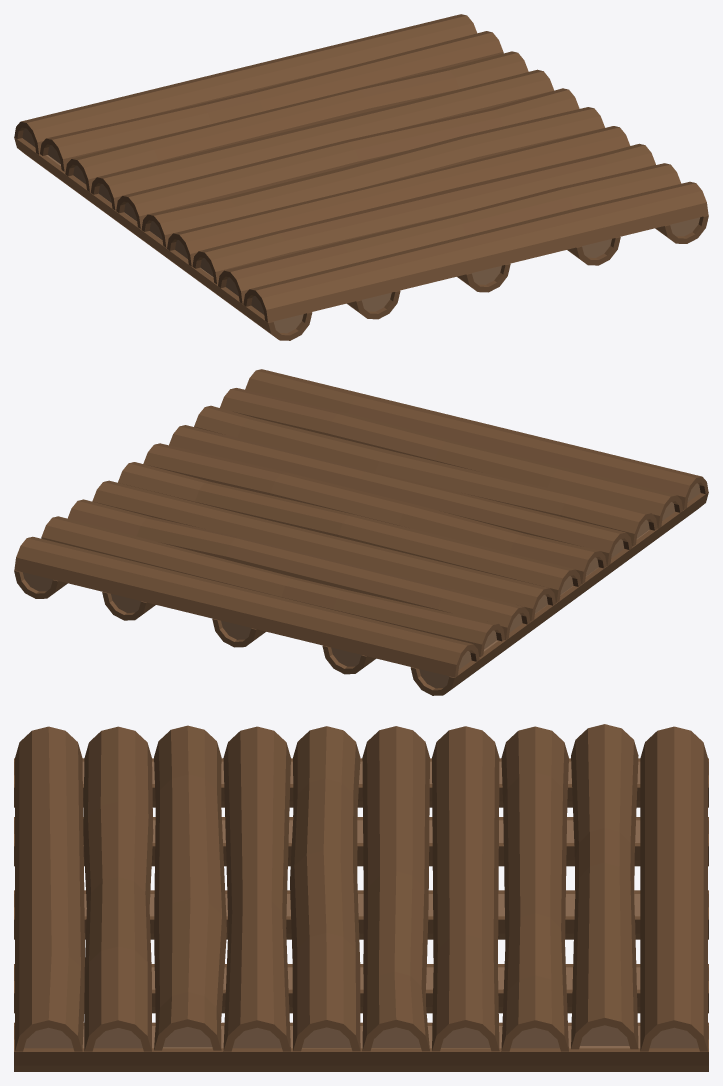
The model's file is mesh_wood_roof.fbx.
3 views of the same model, one above another, from view 1: azimuth 30°, elevation 25°; view 2: azimuth 150°, elevation 25°; view 3: azimuth 270°, elevation 25° (orthographic). The views are drawn at different scales.
Parts seen in each view (by area): view 1: mesh_wood_roof; view 2: mesh_wood_roof; view 3: mesh_wood_roof.
Boxes of the visible parts, x1,y1,x2,y2 form: mesh_wood_roof: (14, 14, 708, 340); mesh_wood_roof: (14, 369, 708, 695); mesh_wood_roof: (14, 724, 708, 1071).
Size of the model in its own units: 2 by 0.2099 by 2.
